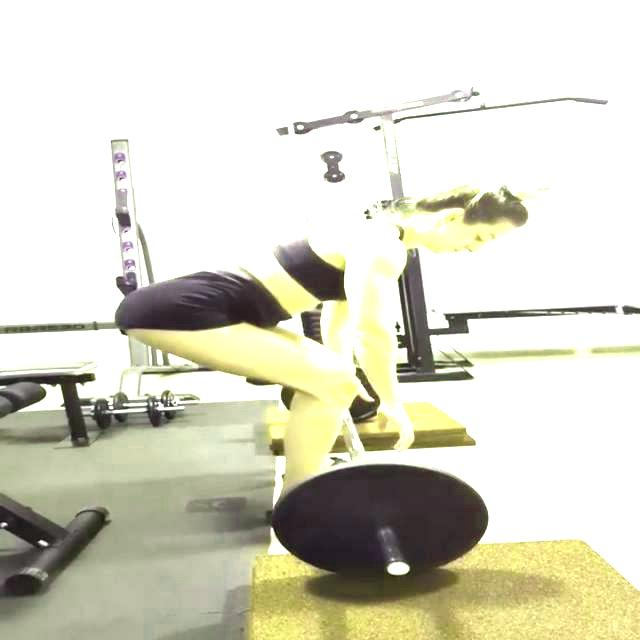barbell: (257, 457, 495, 592)
